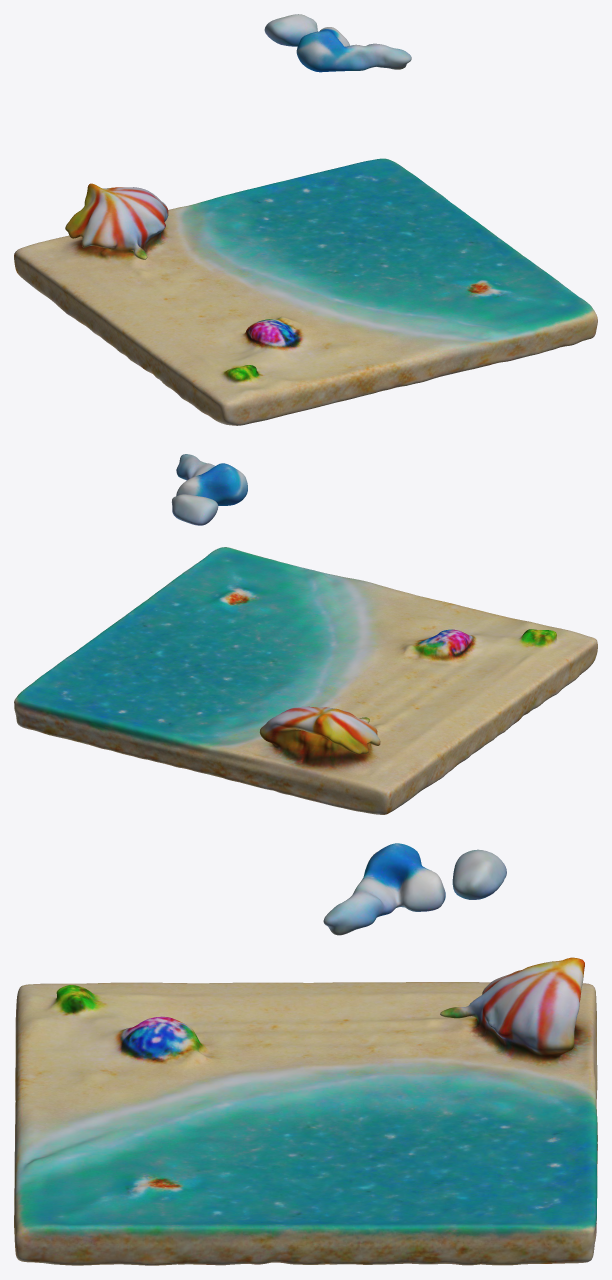
File: Beach.fbx
3 renders of one model, top to bottom at view 1: azimuth 30°, elevation 25°; view 2: azimuth 150°, elevation 25°; view 3: azimuth 270°, elevation 25°, orthographic. The views are drawn at different scales.
Parts seen in each view (by area): view 1: high_poly; view 2: high_poly; view 3: high_poly.
Boxes of the visible parts, x1,y1,x2,y2 form: high_poly: (14,14,597,425); high_poly: (14,454,597,814); high_poly: (14,843,597,1265).
Size of the model in its own units: 100 by 61.92 by 98.46.
